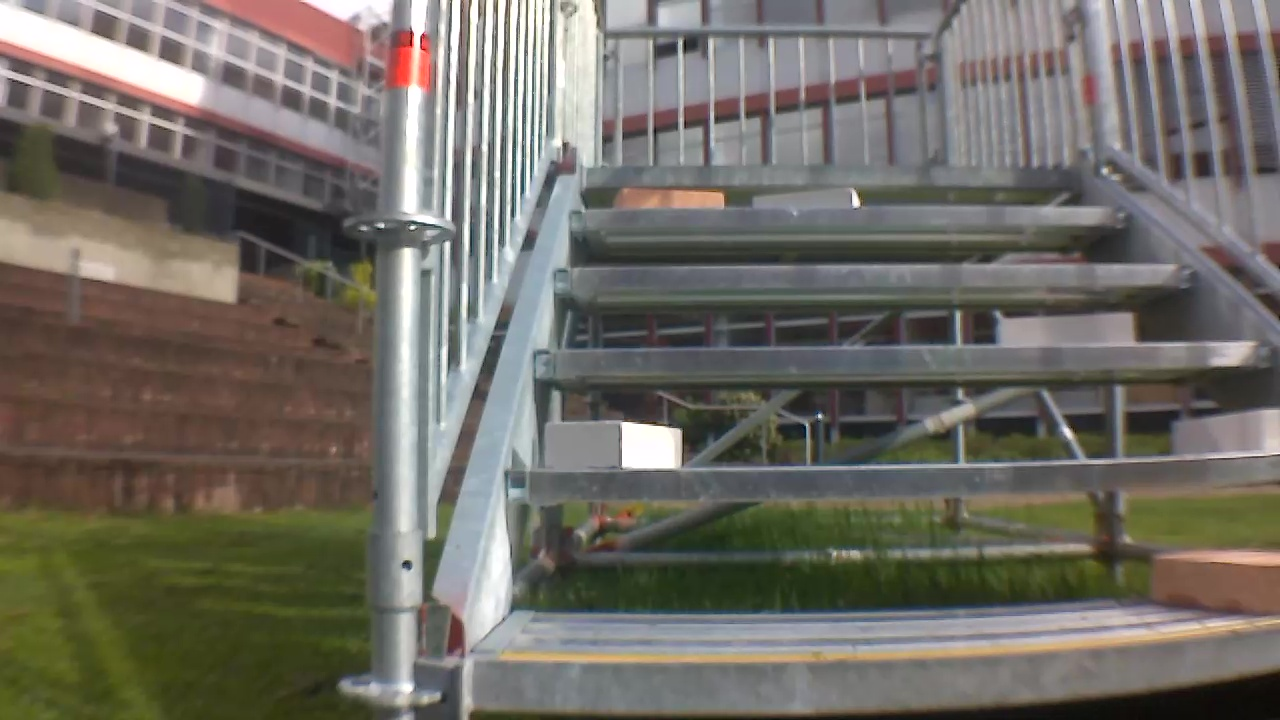brick: (1153, 553, 1280, 614), (544, 422, 681, 468), (1174, 409, 1280, 455), (998, 314, 1134, 345), (614, 187, 722, 209), (754, 189, 858, 207)
edge: (474, 624, 1278, 710), (505, 456, 1280, 498), (535, 342, 1271, 375), (554, 265, 1198, 290), (568, 208, 1125, 228), (583, 167, 1083, 186)
stairs: (350, 2, 1280, 716)
steps: (466, 164, 1280, 717)
